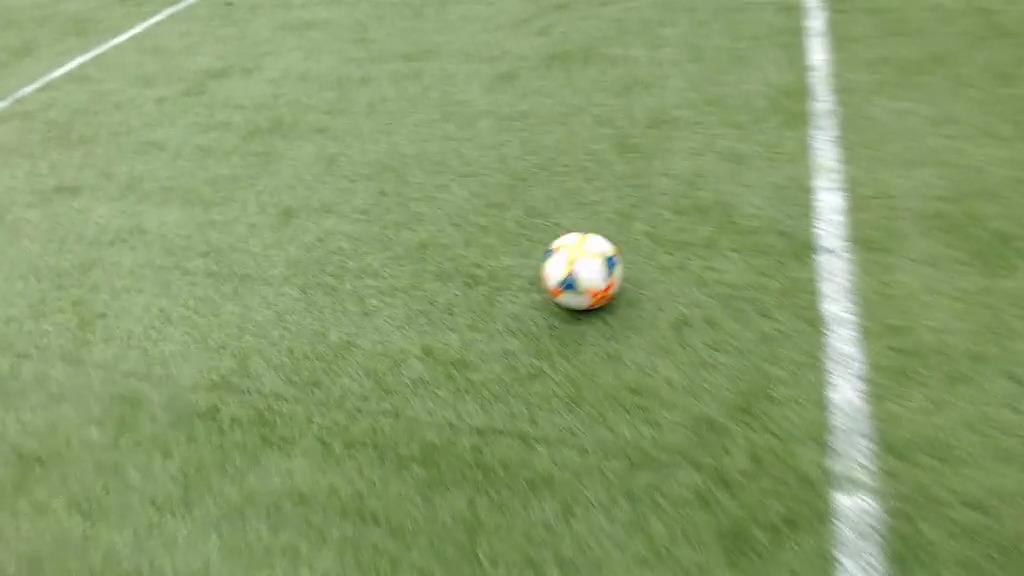ball: (542, 230, 622, 314)
